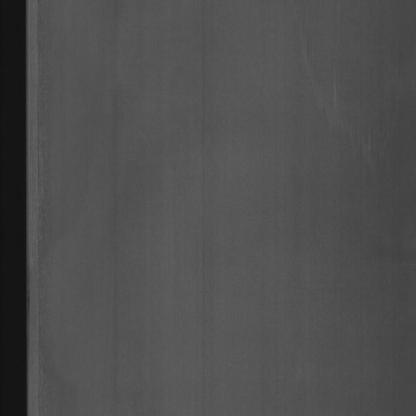silk_spot: (289, 33, 392, 175)
